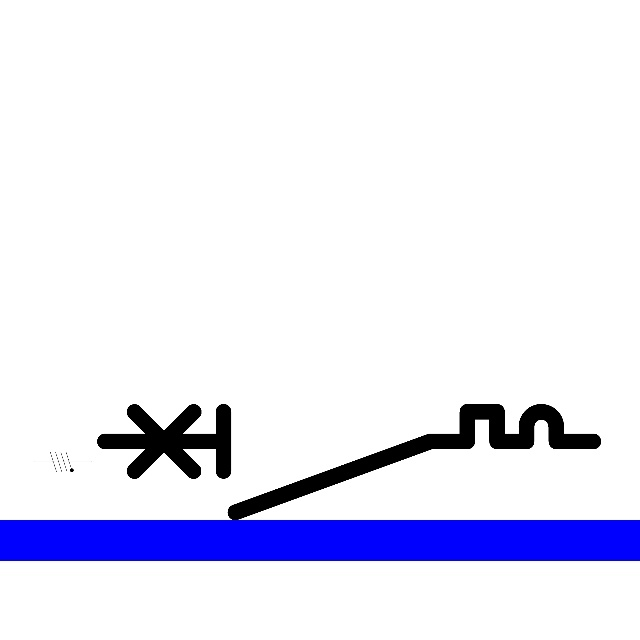interruptor_termomagnetico: (92, 399, 606, 525)
